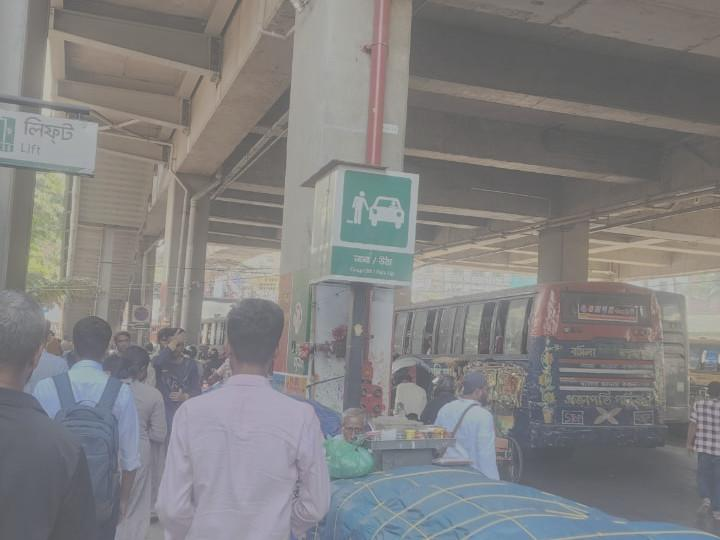Metro Dorp Up Pick up: (304, 162, 418, 286)
